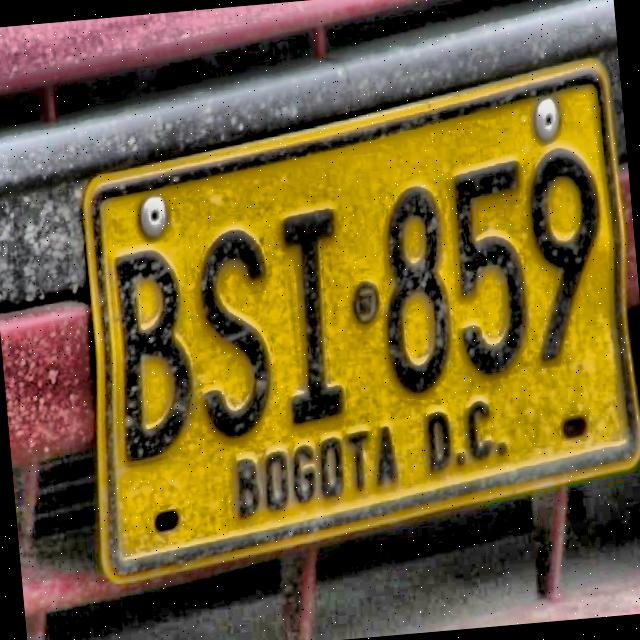plate: (94, 68, 637, 576)
